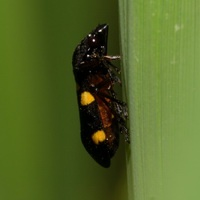insect: (72, 24, 128, 167)
